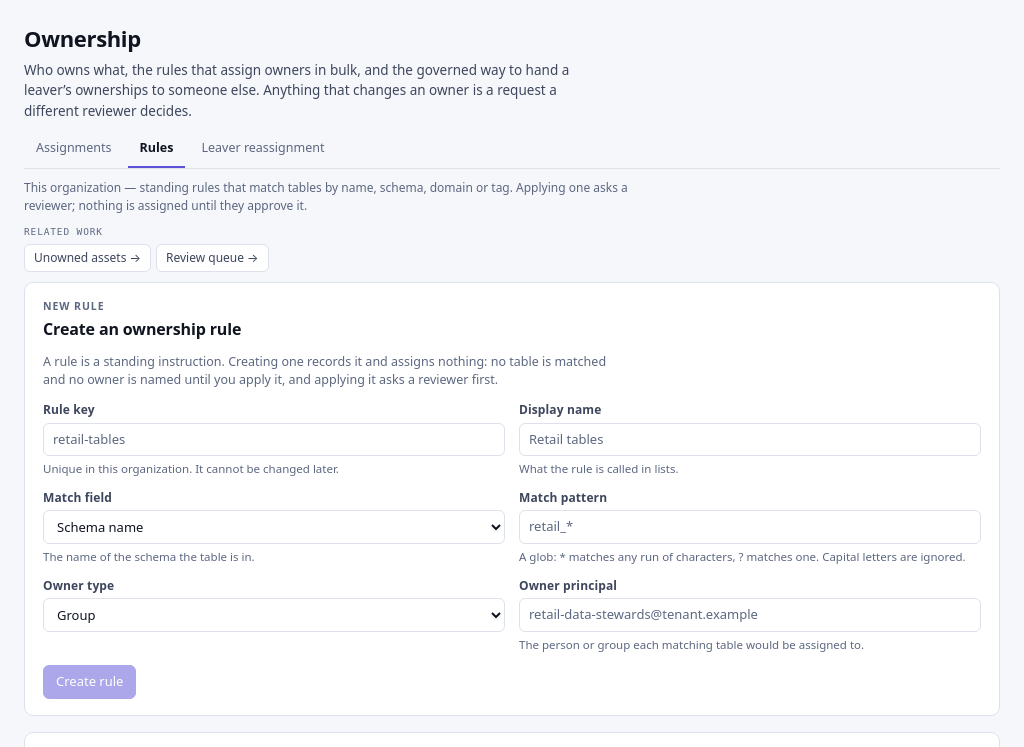
Test: the Ownership view axis › says what the view in front reads and does, and that a request needs a different reviewer
The image size is (1024, 747).
Expected: the text "Applying one asks a reviewer; nothing is assigned until they approve it" is shown, x1=24 y1=178 x2=628 y2=214
Click the tab "Leaver reassignment" at (263, 149), box x1=190 y1=131 x2=336 y2=168
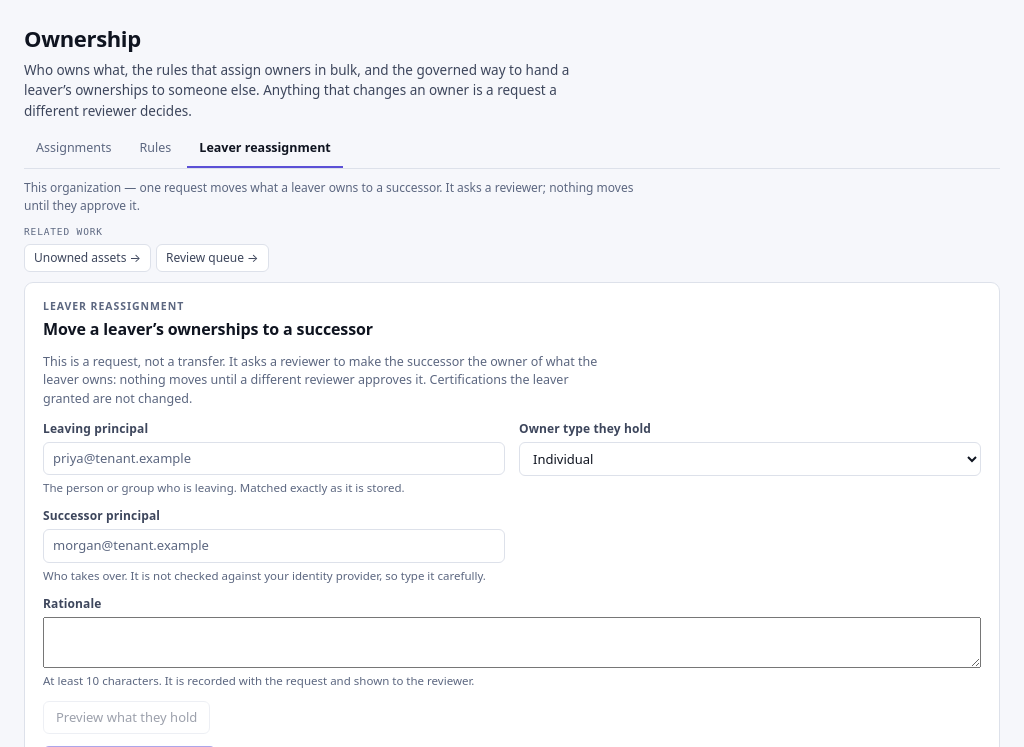
Now the text "It asks a reviewer; nothing moves until they approve it" is shown, box x1=24 y1=178 x2=634 y2=214
